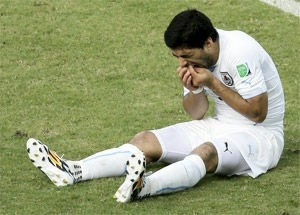falling: (16, 7, 286, 204)
